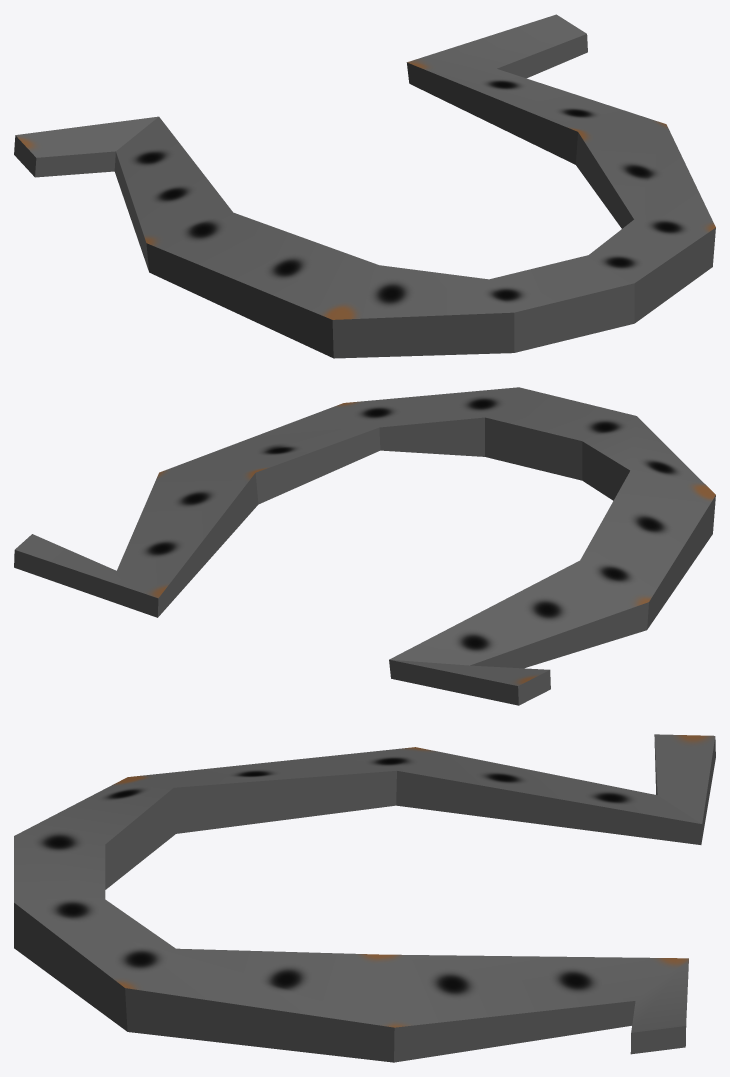
Rendered from horseshoe.glb.
3 renders of one model, top to bottom at view 1: azimuth 30°, elevation 25°; view 2: azimuth 150°, elevation 25°; view 3: azimuth 270°, elevation 25°, orthographic. The views are drawn at different scales.
Parts seen in each view (by area): view 1: Cube; view 2: Cube; view 3: Cube.
Boxes of the visible parts, box(x1,y1,x2,y2) form: Cube: box(14, 14, 715, 358); Cube: box(14, 387, 715, 705); Cube: box(14, 734, 715, 1062).
Bounding box in the file's own units: 0.2812 × 0.0313 × 0.2788.
1 material, 1 textured.
